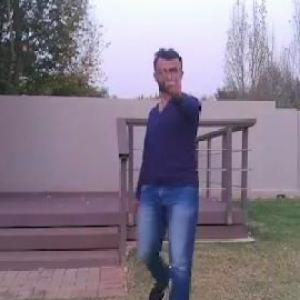takeoff-hand: (149, 62, 185, 109)
